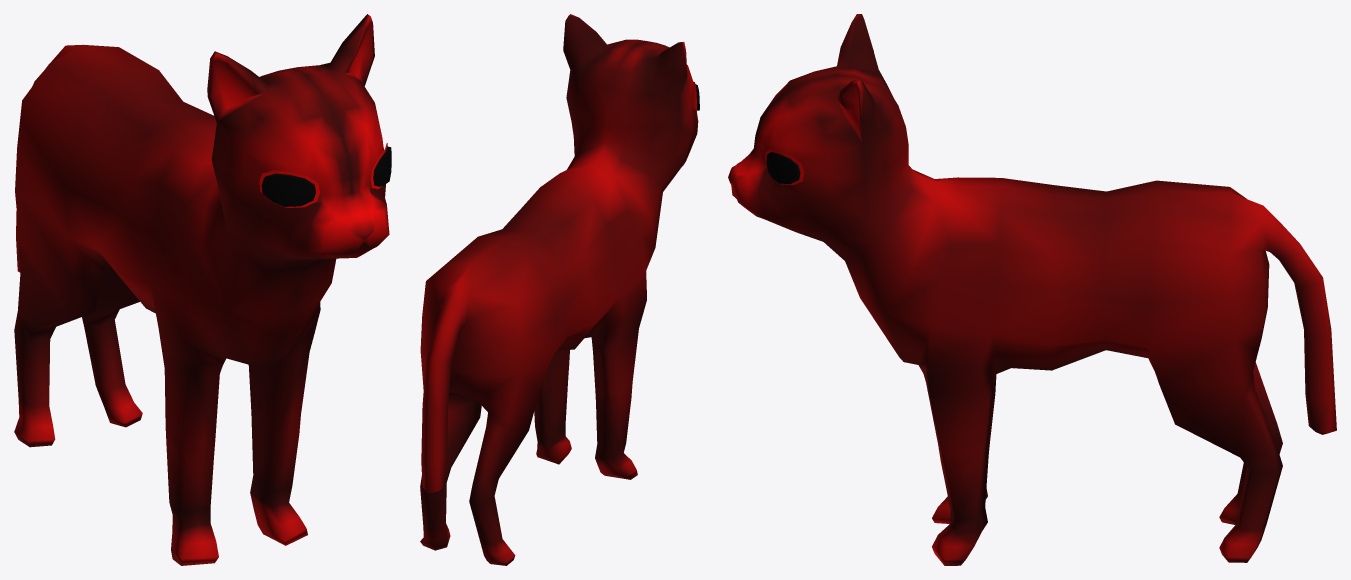
The model's file is Animals_Cat.fbx.
3 renders of one model, left to right at view 1: azimuth 30°, elevation 25°; view 2: azimuth 150°, elevation 25°; view 3: azimuth 270°, elevation 25°, orthographic. The views are drawn at different scales.
Parts seen in each view (by area): view 1: base; view 2: base; view 3: base.
Boxes of the visible parts, <box> form: base: <box>14,14,391,565</box>; base: <box>420,14,699,565</box>; base: <box>728,14,1336,565</box>.
Bounding box in the file's own units: 15.57 × 49.09 × 55.15.
